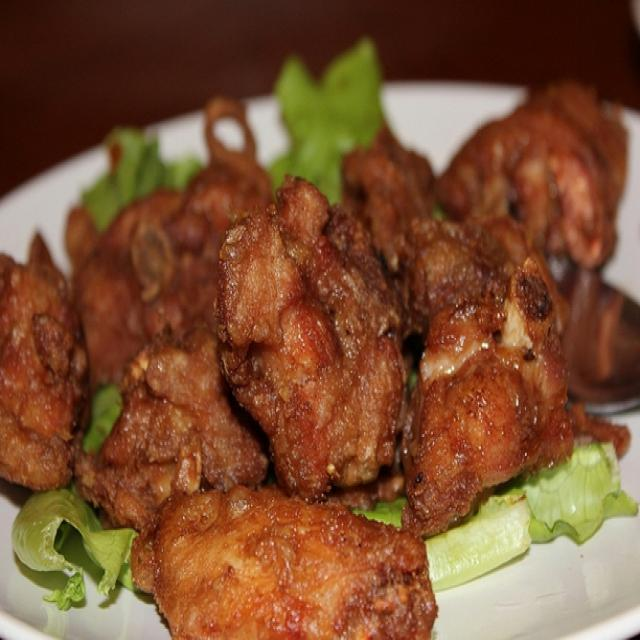Deep fried chicken wing: (18, 85, 616, 605)
